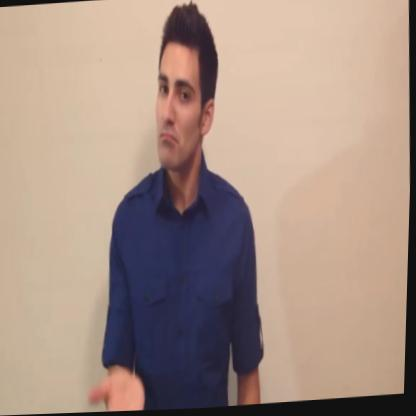ThankYou: (76, 1, 277, 413)
